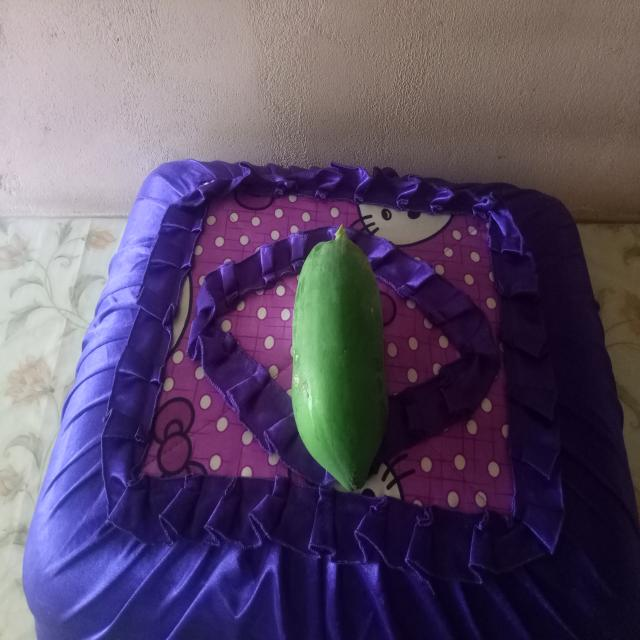Pepaya unrippen: (280, 214, 391, 486)
